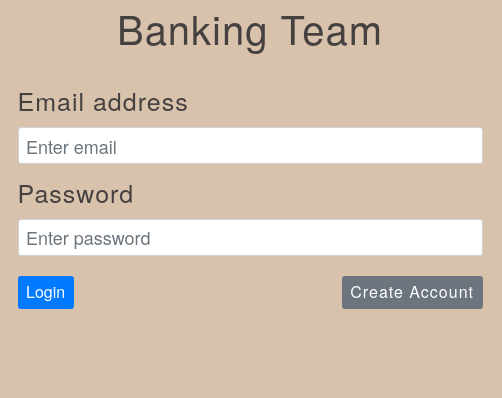
Should positive and negative messages for login › (TP_0002) Should test to show wrong email
This screenshot has width=502, height=398.
Type "hello@cypress.io" into the field named "email" at [251, 146], box [18,127,483,164]
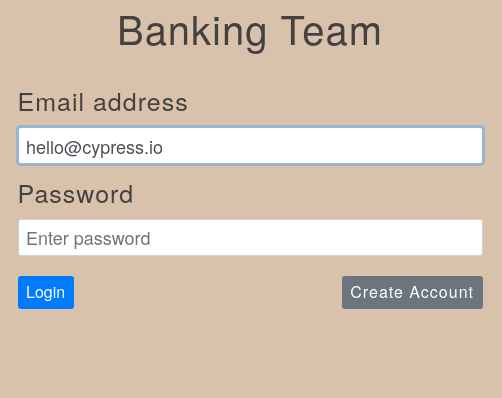
Type "123456cpr" into the password field named "password" at [251, 238], box [18,219,483,256]
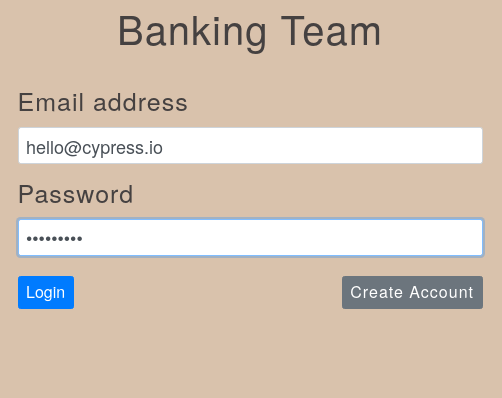
Click the button "Login" at [46, 293], box [18,276,74,310]
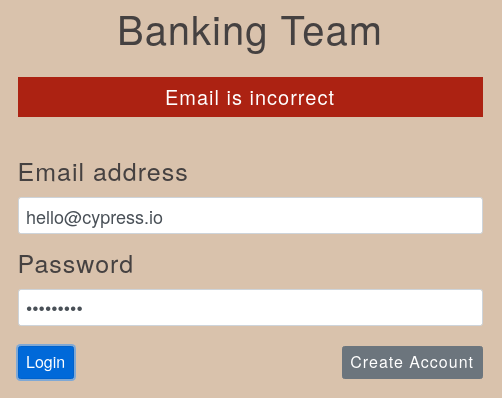
Expected: the text with class "errorMsg" reads "Email is incorrect", [165,82,335,111]
